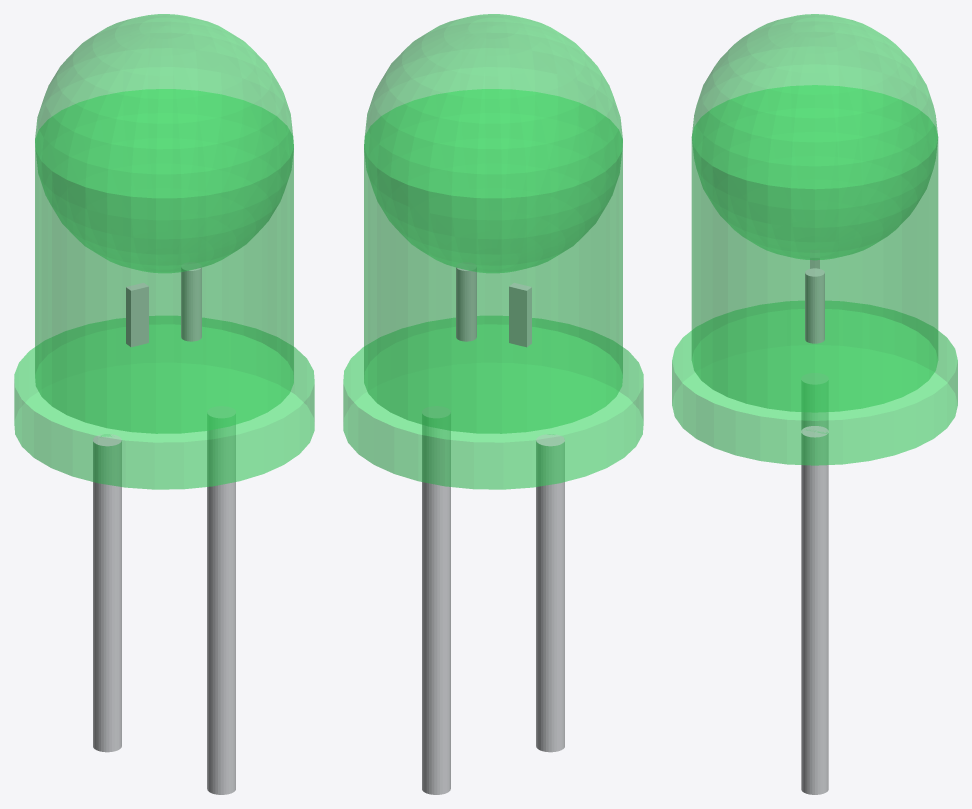
File: led_5mm_green.glb
3 views of the same model, side by side, from view 1: azimuth 30°, elevation 25°; view 2: azimuth 150°, elevation 25°; view 3: azimuth 270°, elevation 25° (orthographic). The views are drawn at different scales.
Parts seen in each view (by area): view 1: Cylinder.001, Sphere, Cylinder, Cylinder.003, Cylinder.004, Cylinder.002, Cube; view 2: Cylinder.001, Sphere, Cylinder, Cylinder.003, Cylinder.004, Cylinder.002, Cube; view 3: Cylinder.001, Sphere, Cylinder, Cylinder.003, Cylinder.002, Cylinder.004.
Boxes of the visible parts, <box> form: Cylinder.001: <box>35,89,293,433</box>; Sphere: <box>35,14,293,272</box>; Cylinder: <box>14,316,314,489</box>; Cylinder.003: <box>207,406,235,794</box>; Cylinder.004: <box>93,434,121,752</box>; Cylinder.002: <box>181,262,201,341</box>; Cube: <box>126,283,148,347</box>; Cylinder.001: <box>364,89,622,433</box>; Sphere: <box>364,14,622,272</box>; Cylinder: <box>343,316,643,489</box>; Cylinder.003: <box>422,406,450,794</box>; Cylinder.004: <box>536,434,564,752</box>; Cylinder.002: <box>456,262,476,341</box>; Cube: <box>509,283,531,347</box>; Cylinder.001: <box>691,85,938,412</box>; Sphere: <box>691,14,938,259</box>; Cylinder: <box>672,301,957,465</box>; Cylinder.003: <box>801,426,828,794</box>; Cylinder.002: <box>805,268,824,343</box>; Cylinder.004: <box>801,373,828,429</box>.
Bounding box in the file's own units: 0.0058 × 0.0165 × 0.0058.
